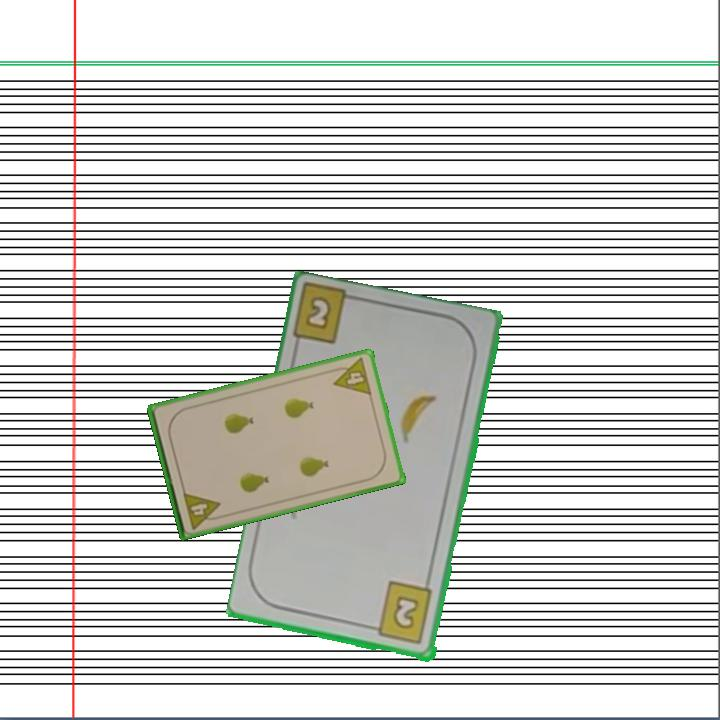2b: (366, 579, 435, 648), (302, 292, 335, 333)
4p: (327, 354, 374, 398), (179, 488, 225, 532)
